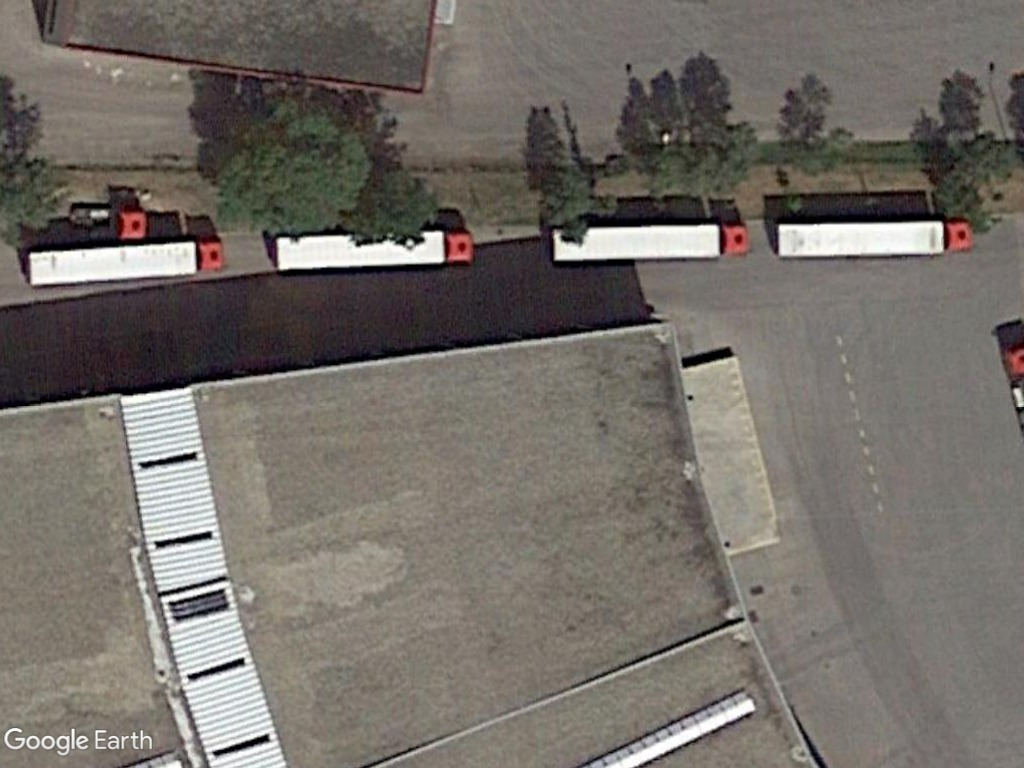longvehicle: (20, 236, 229, 294), (265, 223, 479, 277), (547, 220, 754, 268), (770, 213, 976, 261)
